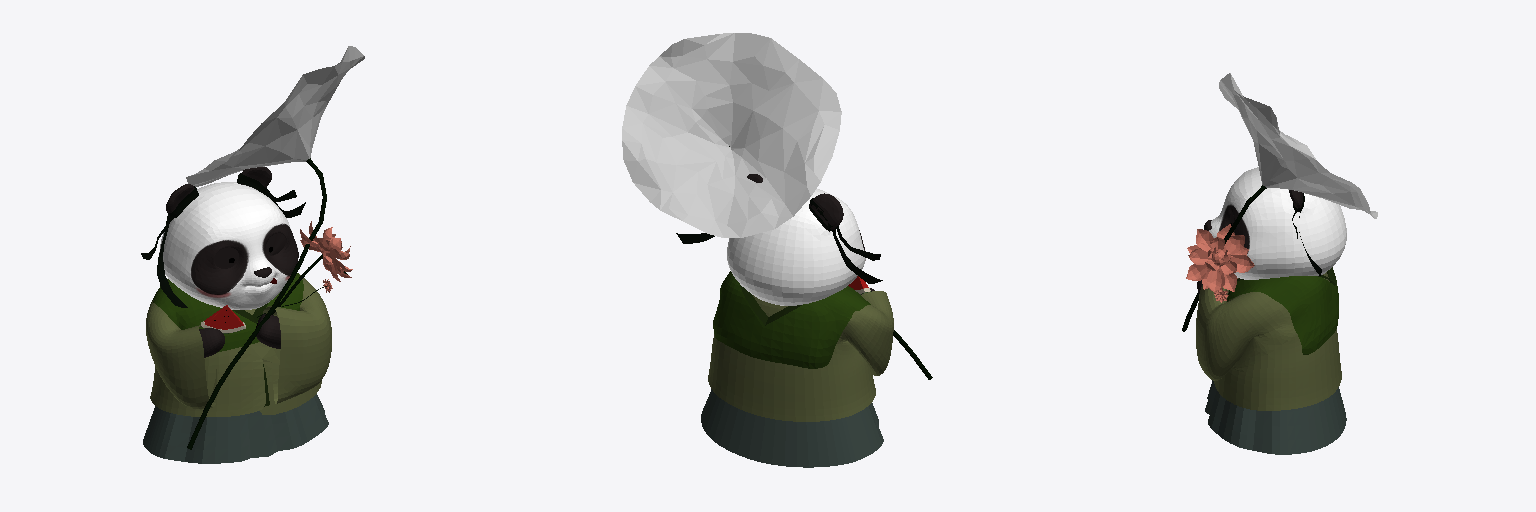
The picture shows the model from 3 angles: view 1: azimuth 30°, elevation 25°; view 2: azimuth 150°, elevation 25°; view 3: azimuth 270°, elevation 25°; orthographic projection.
Visible parts, largest first — view 1: panda_body007.007, panda_body007.003, panda_body007.011, 物件_148.009, panda_body007.008, 物件_151.032, panda_body007.001, 物件_148.007, panda_body007.009, 立方体.002, panda_body007.005; view 2: 物件_148.009, panda_body007.007, panda_body007.003, panda_body007.011, panda_body007.008, panda_body007.009; view 3: panda_body007.007, panda_body007.003, 物件_148.009, panda_body007.011, panda_body007.008, 物件_151.032.
Part boxes in pixels (left/top/right/bottom): panda_body007.007: left=146, top=274, right=331, bottom=416; panda_body007.003: left=159, top=167, right=298, bottom=309; panda_body007.011: left=143, top=394, right=328, bottom=463; 物件_148.009: left=186, top=46, right=364, bottom=186; panda_body007.008: left=151, top=273, right=303, bottom=352; 物件_151.032: left=300, top=221, right=352, bottom=281; panda_body007.001: left=199, top=314, right=280, bottom=357; 物件_148.007: left=189, top=158, right=326, bottom=449; panda_body007.009: left=141, top=186, right=198, bottom=307; 立方体.002: left=201, top=305, right=245, bottom=333; panda_body007.005: left=237, top=173, right=305, bottom=217; 物件_148.009: left=622, top=33, right=841, bottom=237; panda_body007.007: left=708, top=291, right=893, bottom=421; panda_body007.003: left=727, top=174, right=865, bottom=305; panda_body007.011: left=701, top=389, right=883, bottom=467; panda_body007.008: left=713, top=271, right=870, bottom=368; panda_body007.009: left=809, top=198, right=882, bottom=283; panda_body007.007: left=1196, top=272, right=1341, bottom=410; panda_body007.003: left=1204, top=167, right=1346, bottom=279; 物件_148.009: left=1219, top=73, right=1377, bottom=218; panda_body007.011: left=1205, top=380, right=1346, bottom=454; panda_body007.008: left=1227, top=271, right=1338, bottom=354; 物件_151.032: left=1186, top=224, right=1254, bottom=292.
Size of the model in its own units: 8.33 by 13.31 by 6.08.
77 materials, 1 textured.